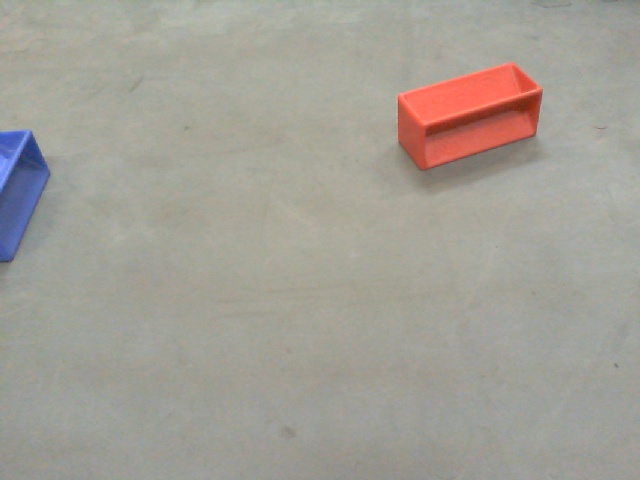BlueSample: (1, 123, 52, 262)
RedSample: (378, 58, 547, 173)
